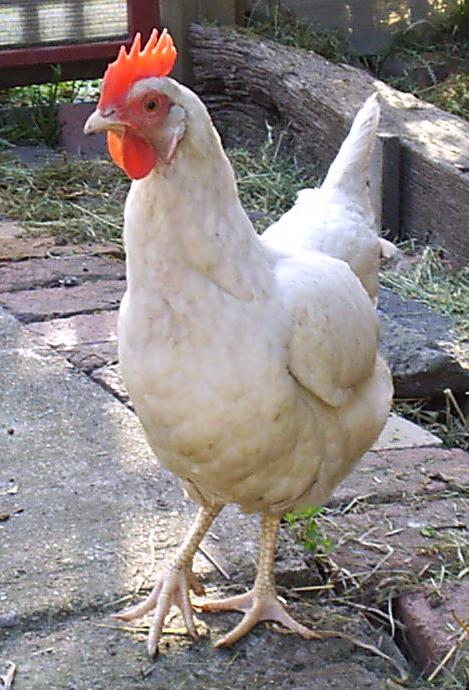Healthy: (74, 14, 406, 649)
